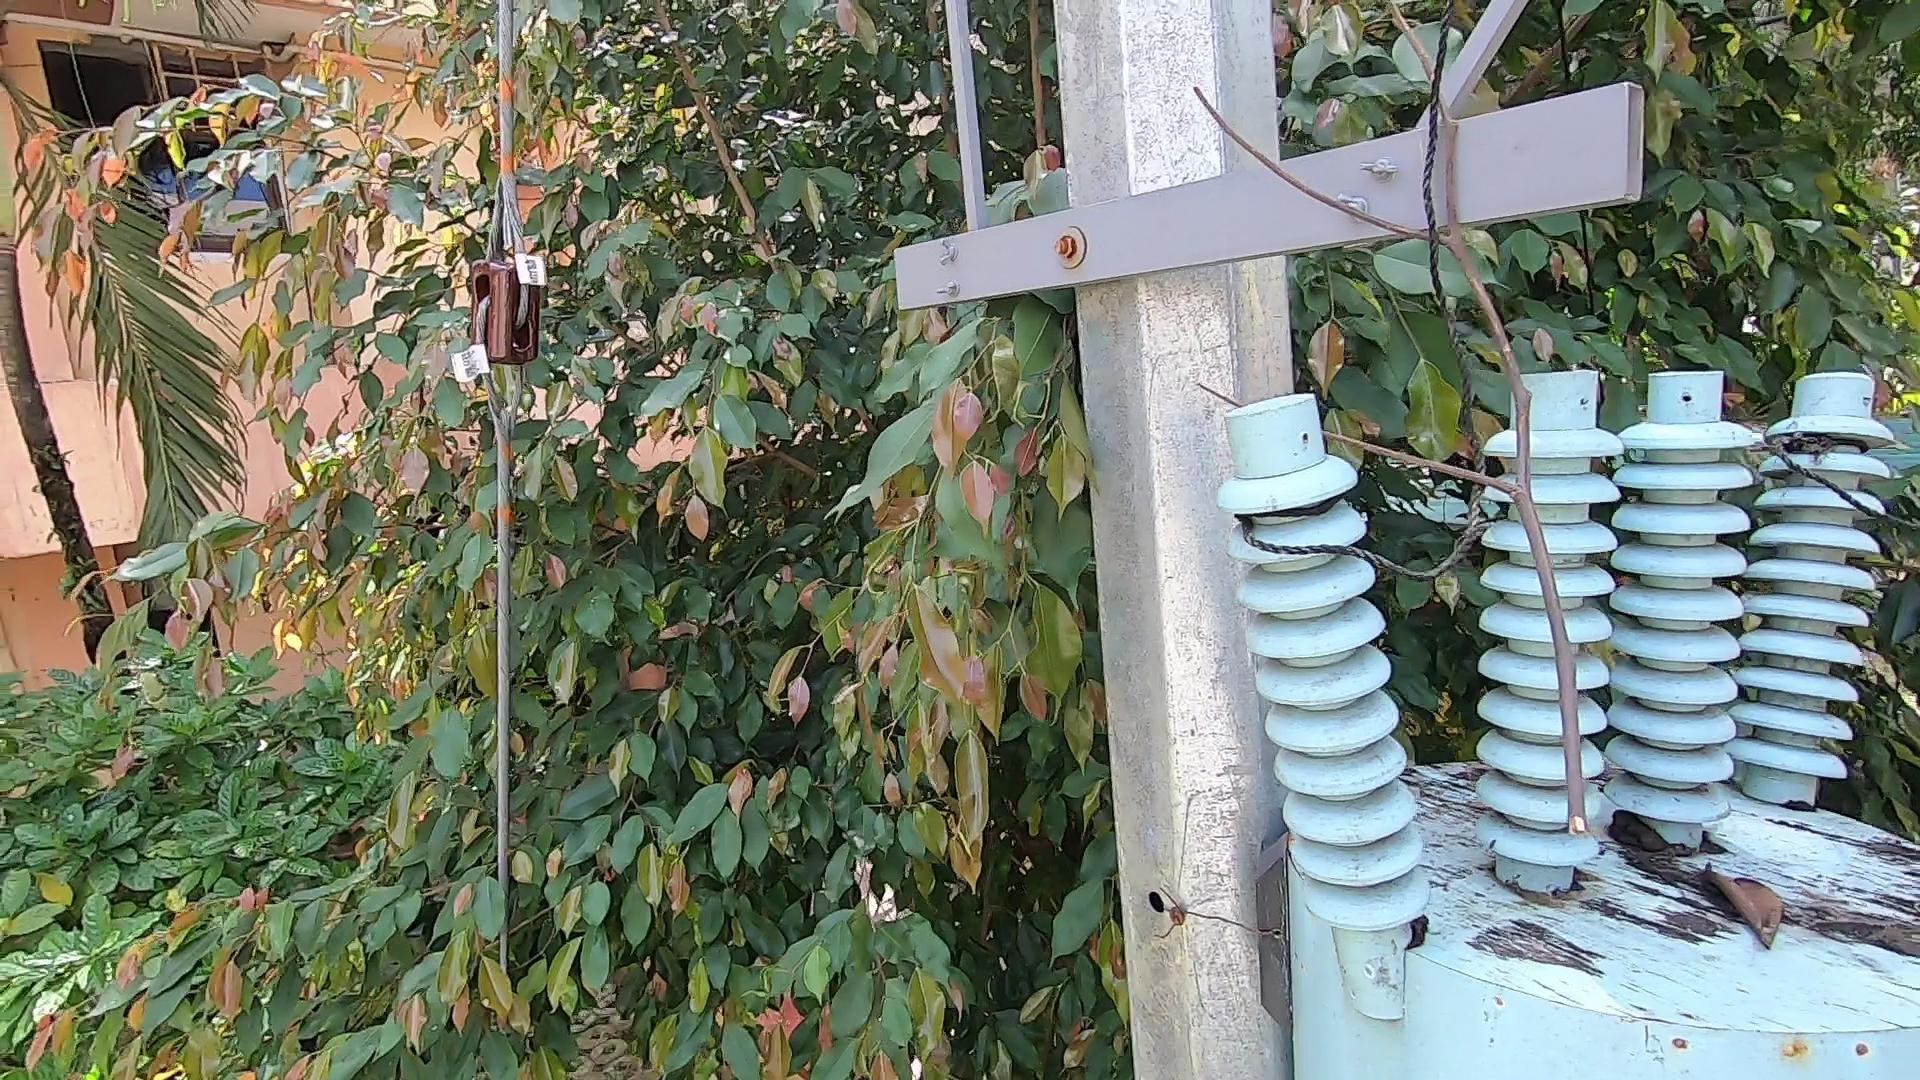leaf: (1669, 852, 1795, 963), (1592, 807, 1665, 857), (1404, 907, 1437, 945)
tree branch: (1179, 22, 1648, 847)
